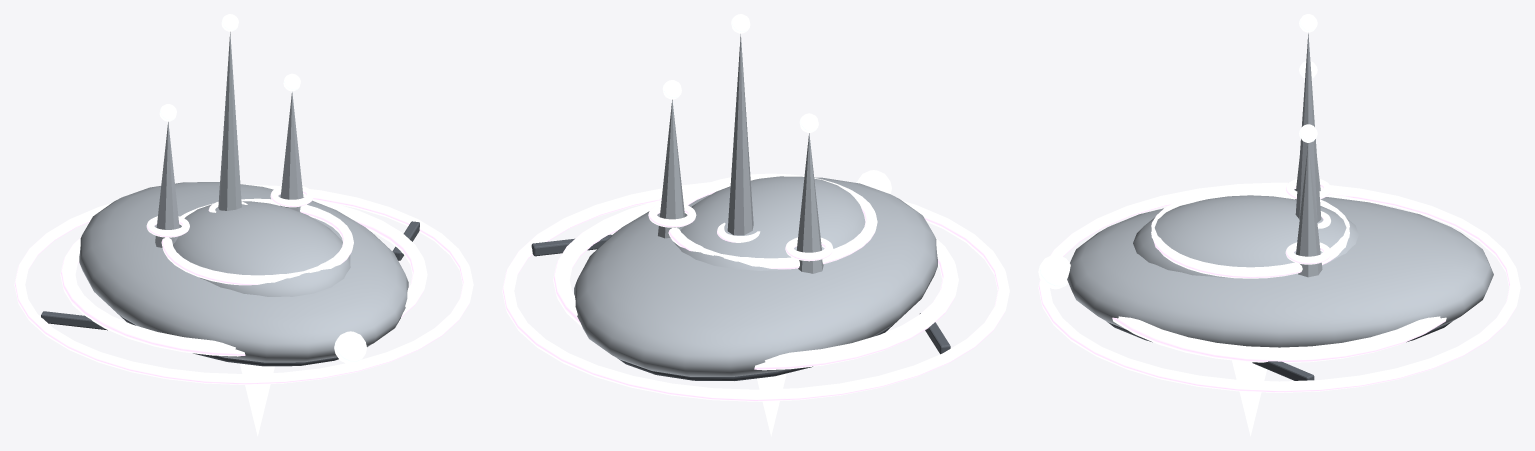
Rendered from ill_battleship.glb.
3 views of the same model, side by side, from view 1: azimuth 30°, elevation 25°; view 2: azimuth 150°, elevation 25°; view 3: azimuth 270°, elevation 25° (orthographic). The views are drawn at different scales.
Visible parts, largest first — view 1: nave, dome, ring_out, ring_in, dome_ring, spire_0, spire_2, spire_1, keel, altar, nave_bottom, pyl_3 (+2 smaller); view 2: nave, ring_out, dome, ring_in, dome_ring, spire_0, spire_2, spire_1, nave_bottom, keel, spire_ring_2, spire_ring_1 (+2 smaller); view 3: nave, ring_out, dome, ring_in, dome_ring, spire_1, spire_0, keel, altar, spire_ring_1, pyl_0.
Boxes of the visible parts, box(x1,y1,x2,y2) form: nave: box(79, 182, 408, 362); dome: box(173, 201, 350, 296); ring_out: box(14, 184, 473, 384); ring_in: box(60, 199, 427, 356); dome_ring: box(161, 198, 353, 285); spire_0: box(218, 32, 241, 210); spire_2: box(155, 122, 179, 247); spire_1: box(280, 92, 303, 211); keel: box(240, 363, 274, 436); altar: box(334, 331, 366, 363); nave_bottom: box(117, 313, 368, 366); pyl_3: box(41, 312, 107, 330); nave: box(574, 177, 937, 376); ring_out: box(502, 182, 1009, 401); dome: box(673, 176, 865, 270); ring_in: box(553, 200, 958, 370); dome_ring: box(668, 173, 877, 269); spire_0: box(727, 34, 753, 235); spire_2: box(796, 133, 823, 273); spire_1: box(658, 99, 684, 238); nave_bottom: box(617, 322, 896, 380); keel: box(757, 373, 786, 436); spire_ring_2: box(785, 237, 833, 261); spire_ring_1: box(648, 204, 696, 227); nave: box(1067, 197, 1493, 347); ring_out: box(1038, 182, 1520, 392); dome: box(1133, 195, 1358, 277); ring_in: box(1112, 194, 1446, 362); dome_ring: box(1151, 186, 1349, 278); spire_1: box(1296, 143, 1322, 277); spire_0: box(1295, 33, 1321, 222); keel: box(1232, 360, 1266, 436); altar: box(1038, 254, 1070, 289); spire_ring_1: box(1285, 242, 1330, 264); pyl_0: box(1252, 361, 1313, 380).
Size of the model in its own units: 0.5344 by 0.516 by 0.5344.
